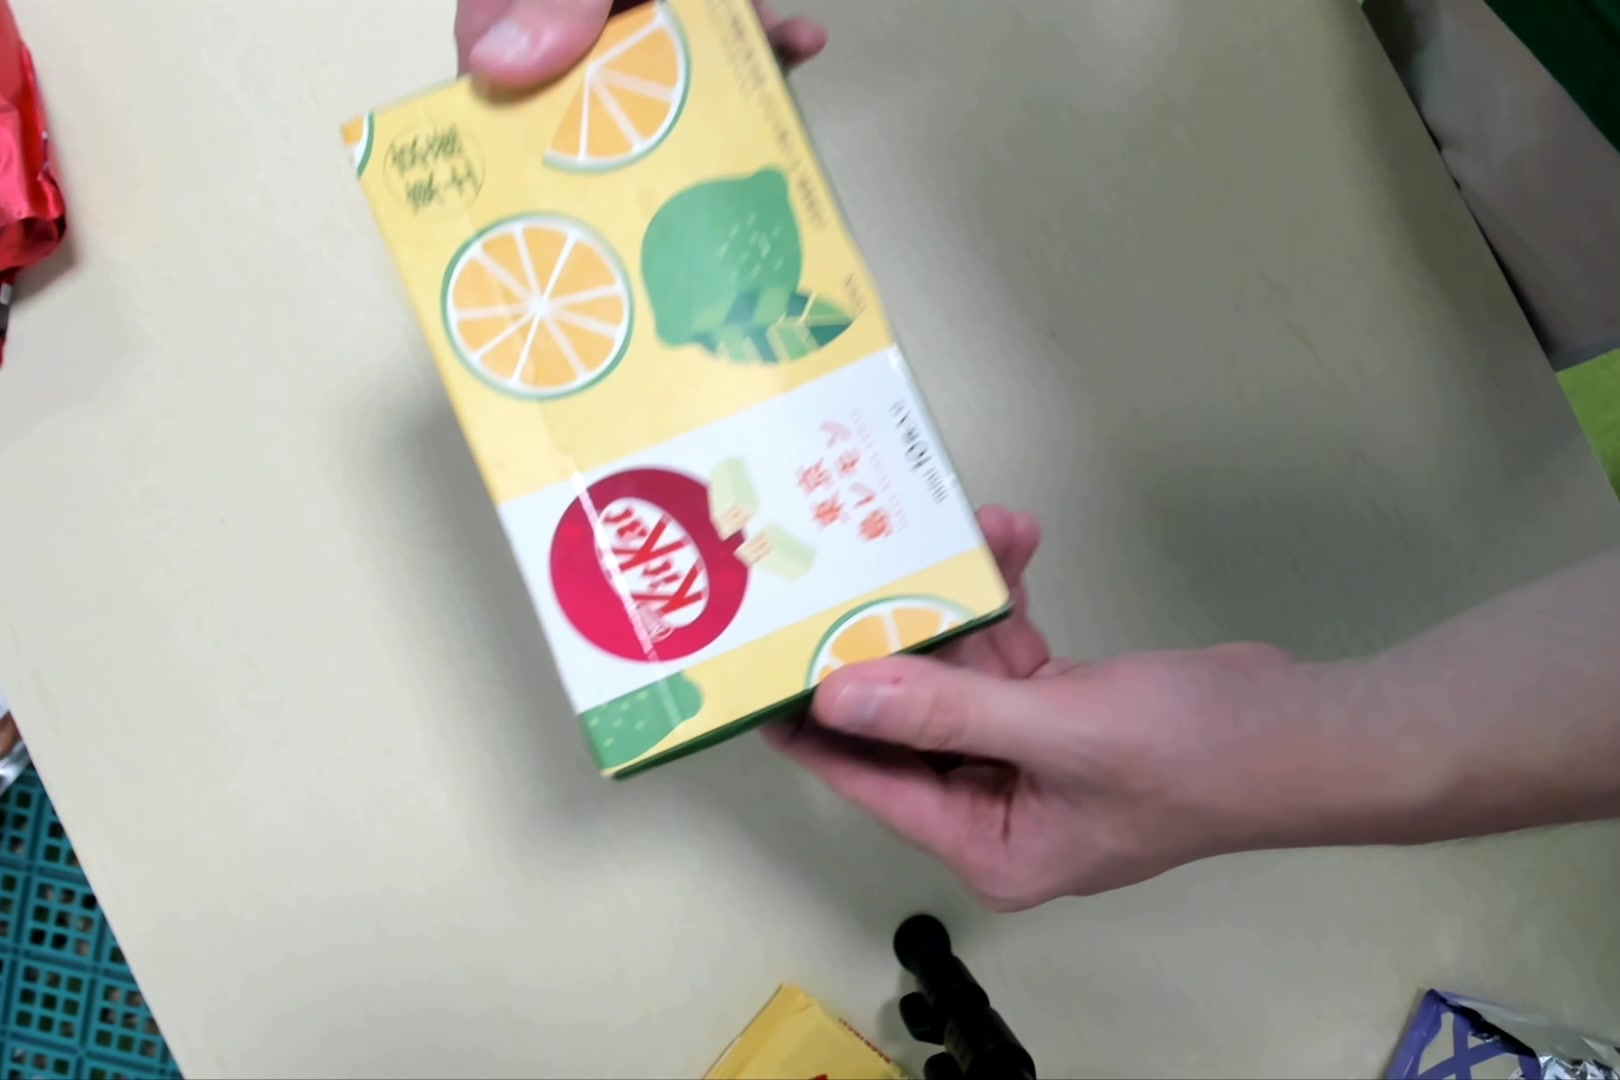SweetsChocolatesOthers_100-199g_NonHalal_NonHealthy: (346, 8, 1006, 783)
